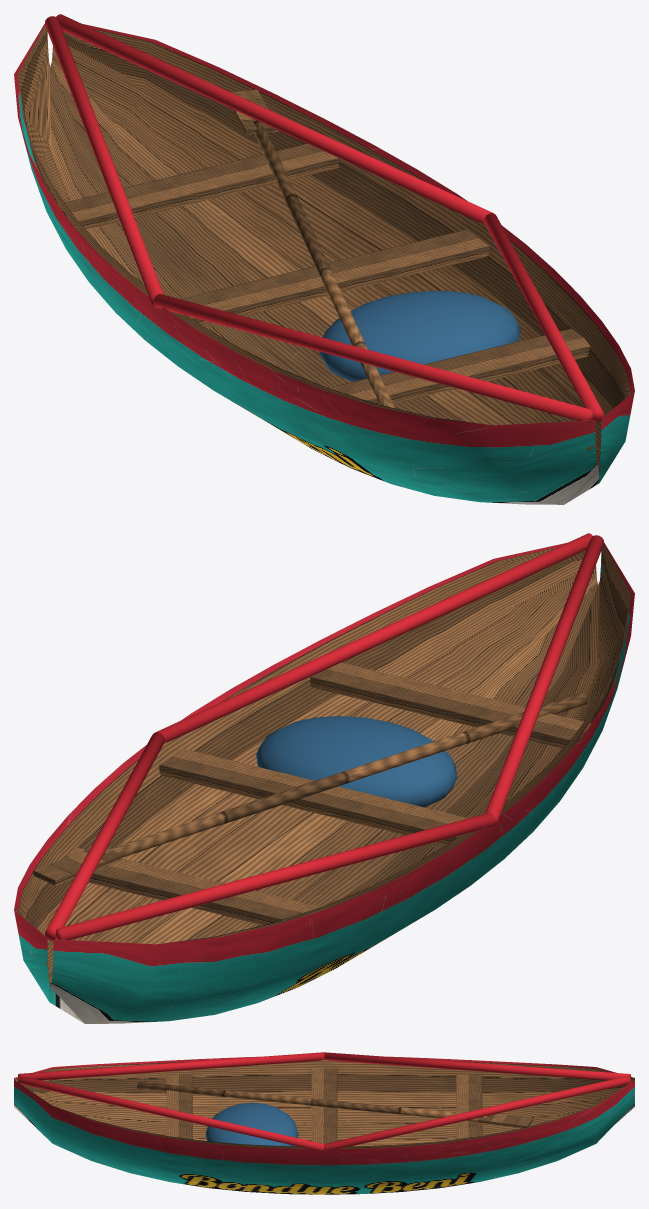
The model's file is Boat.fbx.
3 views of the same model, one above another, from view 1: azimuth 30°, elevation 25°; view 2: azimuth 150°, elevation 25°; view 3: azimuth 270°, elevation 25° (orthographic). The views are drawn at different scales.
Visible parts, largest first — view 1: Boat; view 2: Boat; view 3: Boat.
Part boxes in pixels (left/top/right/bottom): Boat: left=14, top=14, right=634, bottom=504; Boat: left=14, top=533, right=634, bottom=1023; Boat: left=14, top=1052, right=634, bottom=1194.
Bounding box in the file's own units: 2.17 × 1.14 × 6.
